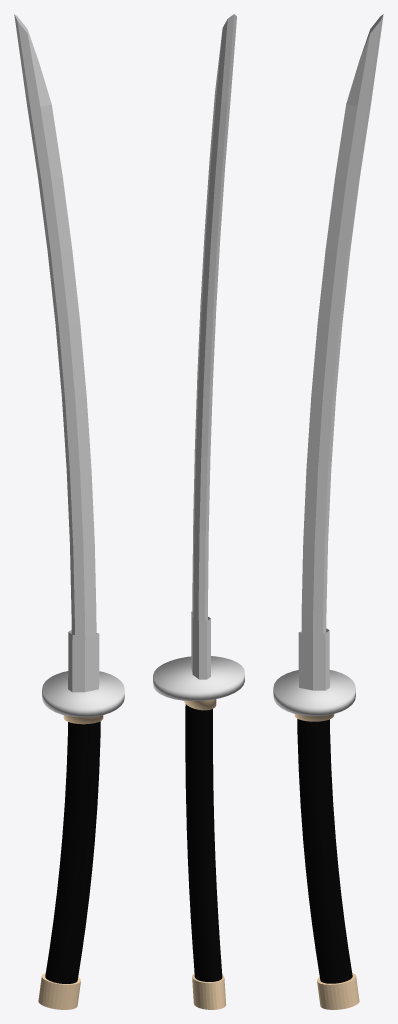
File: Katana v5.glb
The picture shows the model from 3 angles, left to right: view 1: azimuth 90°, elevation 25°; view 2: azimuth 210°, elevation 25°; view 3: azimuth 270°, elevation 25°; orthographic projection.
Parts seen in each view (by area): view 1: Cylinder, Cylinder.003, Cylinder.001, Cylinder.005, Cylinder.002; view 2: Cylinder, Cylinder.003, Cylinder.001, Cylinder.005, Cylinder.002, Cylinder.004; view 3: Cylinder, Cylinder.003, Cylinder.001, Cylinder.005, Cylinder.002.
Boxes of the visible parts, box(x1,y1,x2,y2) form: Cylinder: box(14, 14, 96, 635); Cylinder.003: box(45, 721, 100, 983); Cylinder.001: box(42, 671, 124, 717); Cylinder.005: box(68, 630, 99, 692); Cylinder.002: box(38, 973, 80, 1009); Cylinder: box(192, 14, 236, 621); Cylinder.003: box(185, 704, 222, 981); Cylinder.001: box(153, 656, 244, 701); Cylinder.005: box(191, 611, 210, 679); Cylinder.002: box(192, 973, 226, 1009); Cylinder.004: box(184, 699, 216, 710); Cylinder: box(301, 14, 383, 634); Cylinder.003: box(297, 719, 352, 983); Cylinder.001: box(273, 670, 355, 716); Cylinder.005: box(298, 628, 329, 690); Cylinder.002: box(317, 973, 359, 1009).
Bounding box in the file's own units: 0.0895 × 1.06 × 0.107.
